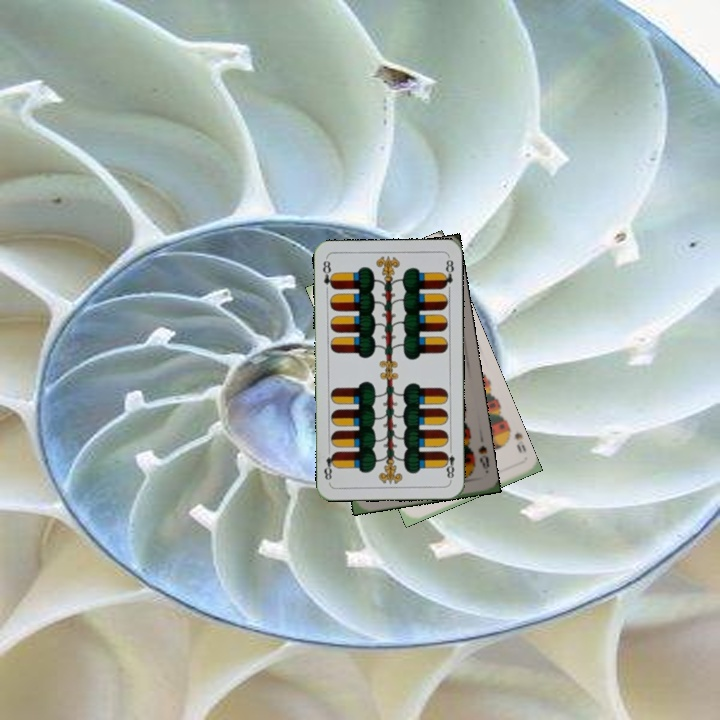E8: (440, 443, 457, 483), (318, 257, 337, 292)
S8: (474, 441, 492, 476)
S9: (504, 422, 525, 455)
